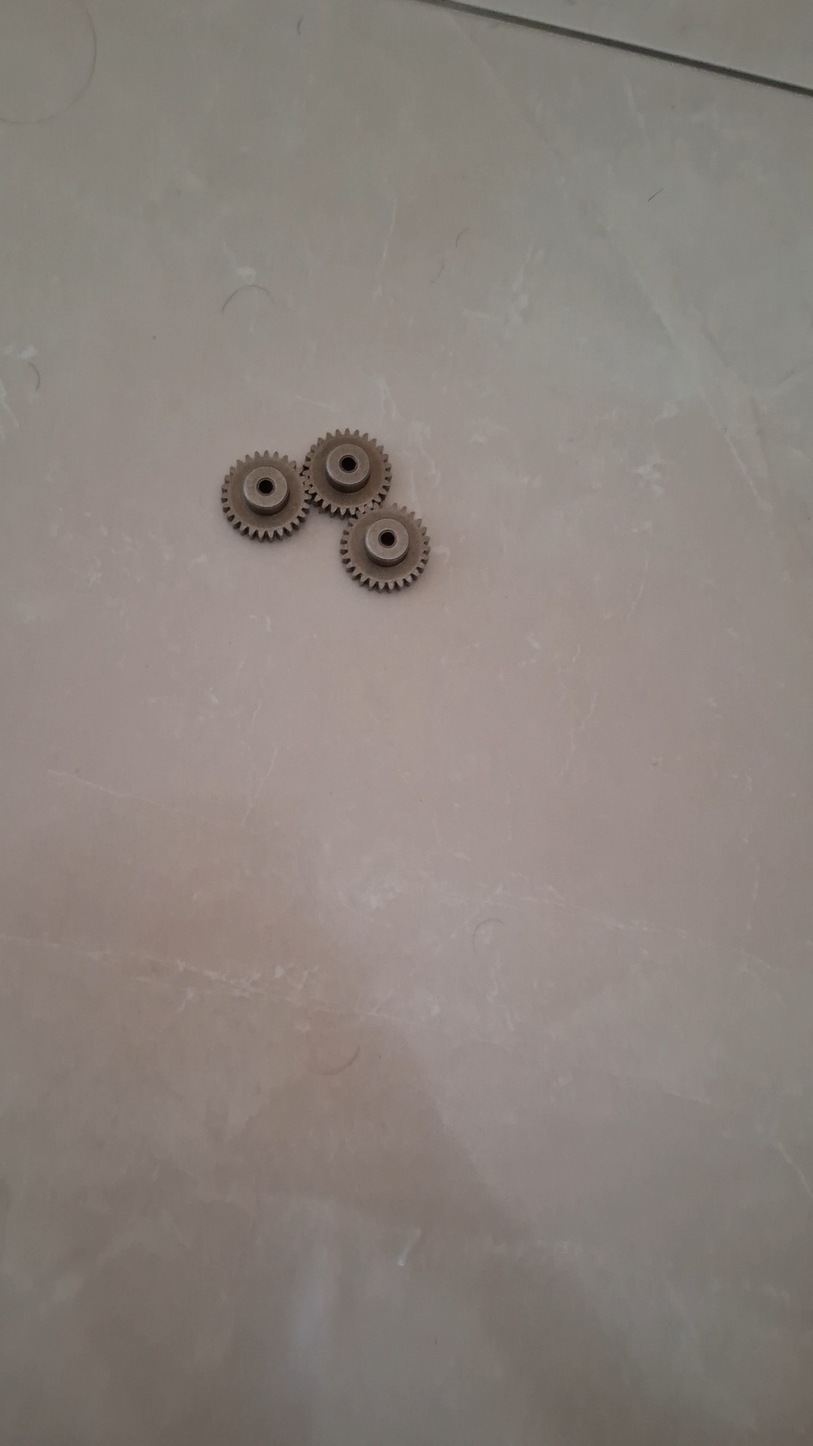spur gear: (222, 451, 310, 540), (303, 430, 391, 517), (341, 505, 429, 590)
